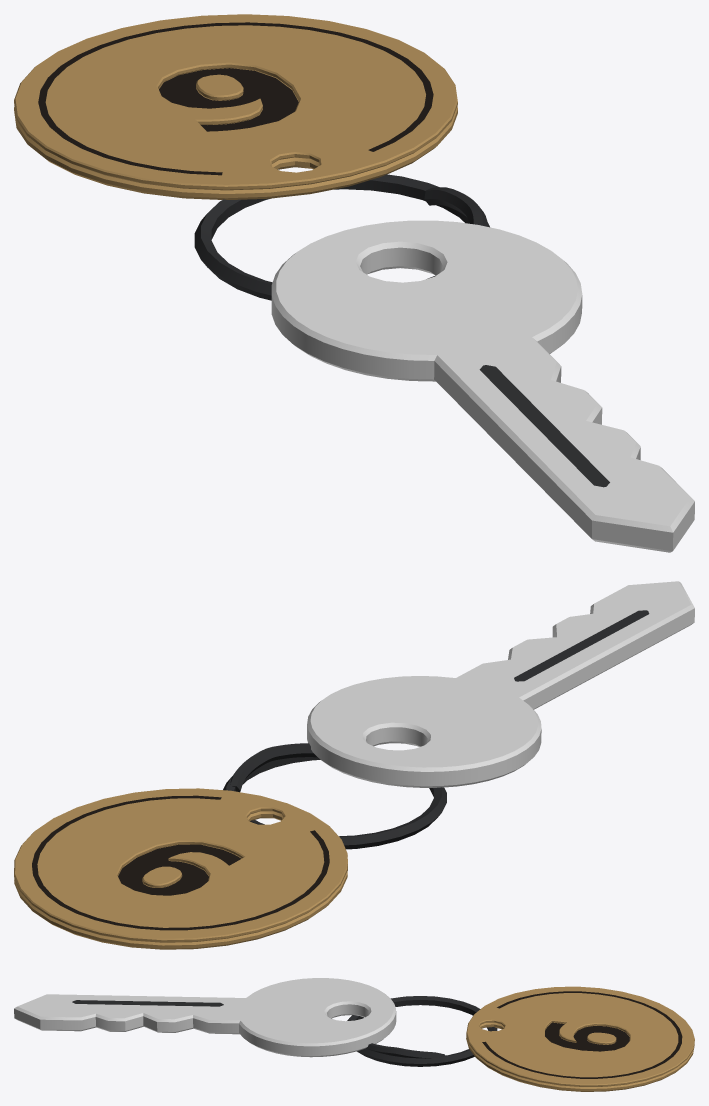
File: locker_key.glb
3 renders of one model, top to bottom at view 1: azimuth 30°, elevation 25°; view 2: azimuth 150°, elevation 25°; view 3: azimuth 270°, elevation 25°, orthographic. The views are drawn at different scales.
Visible parts, largest first — view 1: key_ring_tag, locker_key; view 2: key_ring_tag, locker_key; view 3: key_ring_tag, locker_key.
Boxes of the visible parts, <box> form: key_ring_tag: <box>14,14,609,487</box>; locker_key: <box>271,220,694,552</box>; key_ring_tag: <box>14,610,649,949</box>; locker_key: <box>307,581,694,787</box>; key_ring_tag: <box>72,986,694,1091</box>; locker_key: <box>14,978,396,1057</box>.
Bounding box in the file's own units: 0.0306 × 0.00338 × 0.0893.
